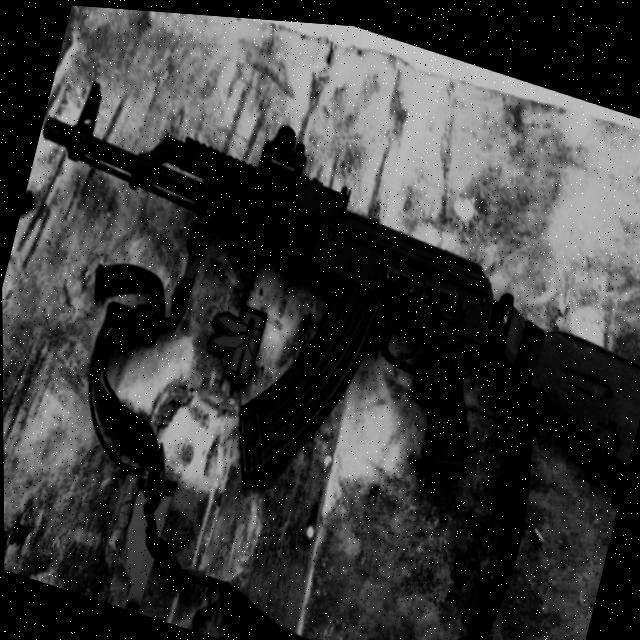firearm: (0, 47, 640, 585)
